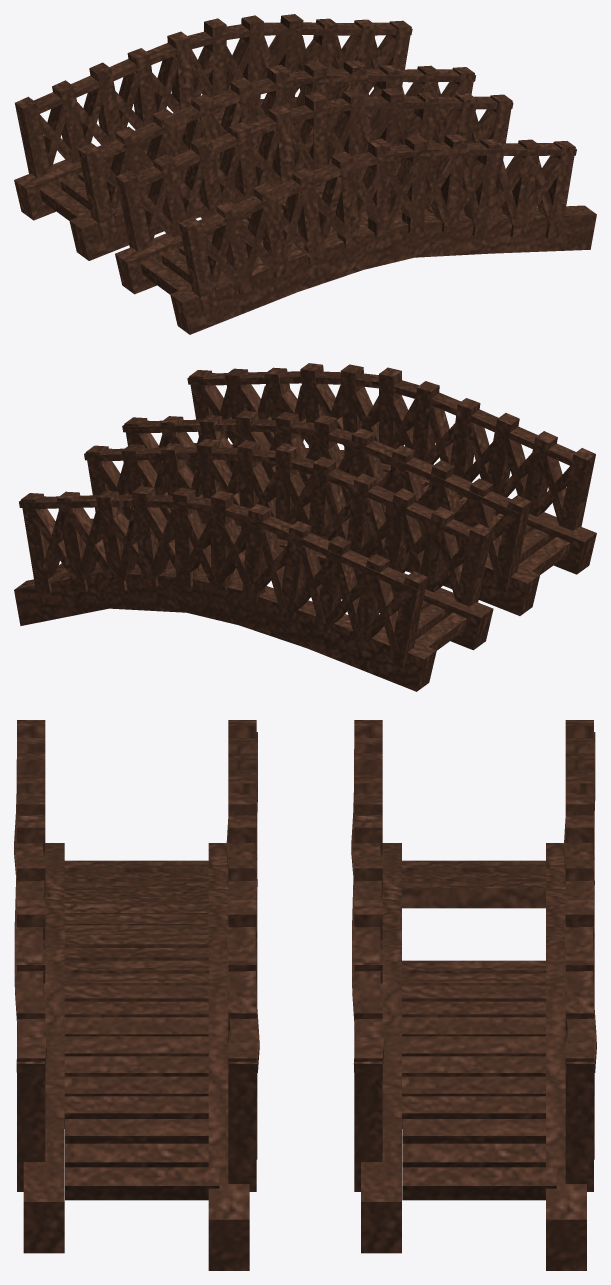
File: Bridges.fbx
The picture shows the model from 3 angles, top to bottom: view 1: azimuth 30°, elevation 25°; view 2: azimuth 150°, elevation 25°; view 3: azimuth 270°, elevation 25°; orthographic projection. The views are drawn at different scales.
Parts seen in each view (by area): view 1: Bridge, Bridge Broken; view 2: Bridge Broken, Bridge; view 3: Bridge, Bridge Broken.
Part boxes in pixels (x1,y1,x2,y2): Bridge: (115, 88, 596, 334); Bridge Broken: (14, 14, 475, 260); Bridge Broken: (14, 438, 493, 691); Bridge: (122, 363, 596, 615); Bridge: (14, 720, 259, 1270); Bridge Broken: (351, 720, 596, 1270).
Size of the model in its own units: 471 by 188 by 343.
Materials: 1 (1 with a texture image).
